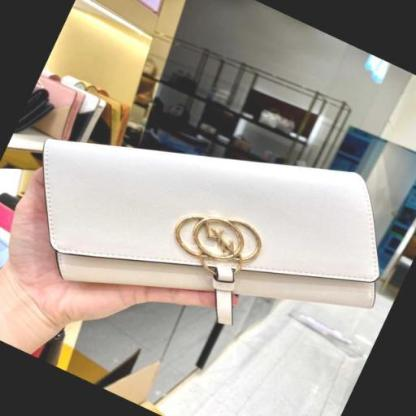bag: (35, 124, 391, 340)
